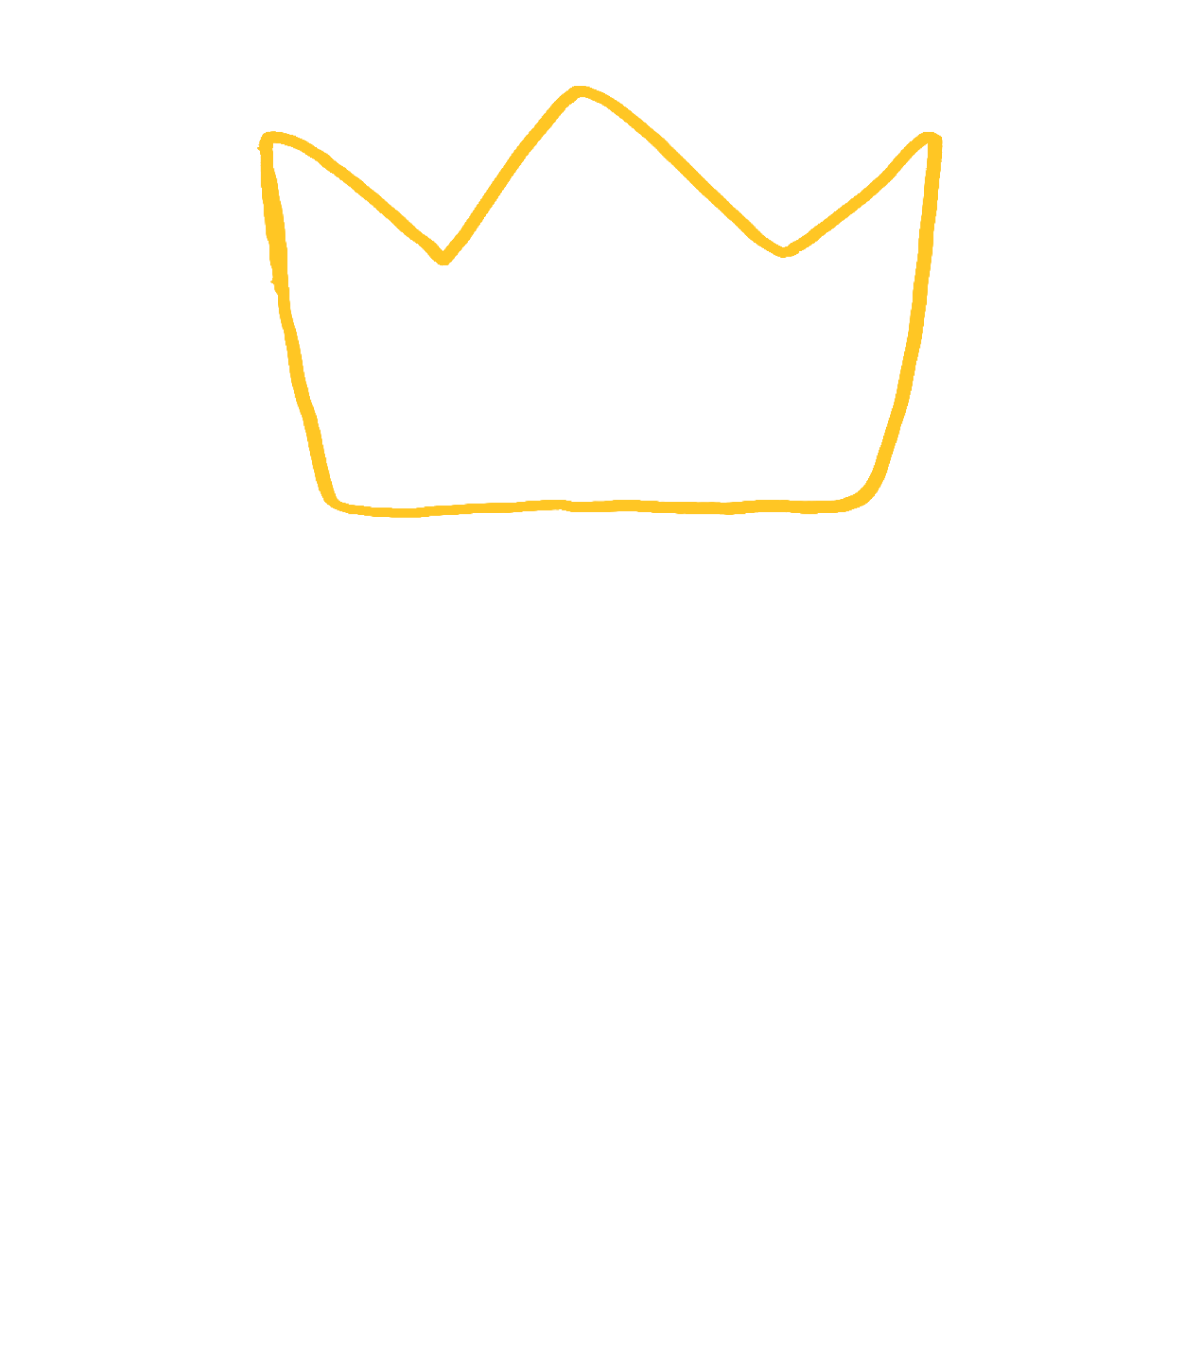design: (222, 73, 964, 557)
